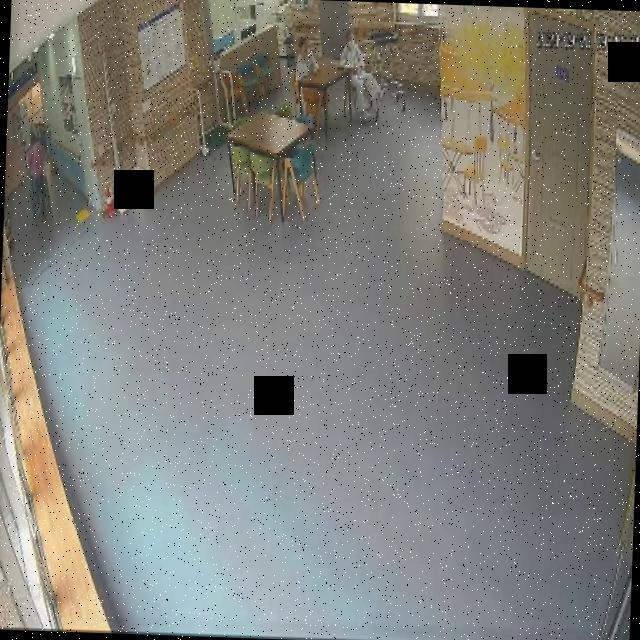patient: (338, 34, 383, 122), (290, 38, 316, 88)
sit: (337, 34, 383, 120)
